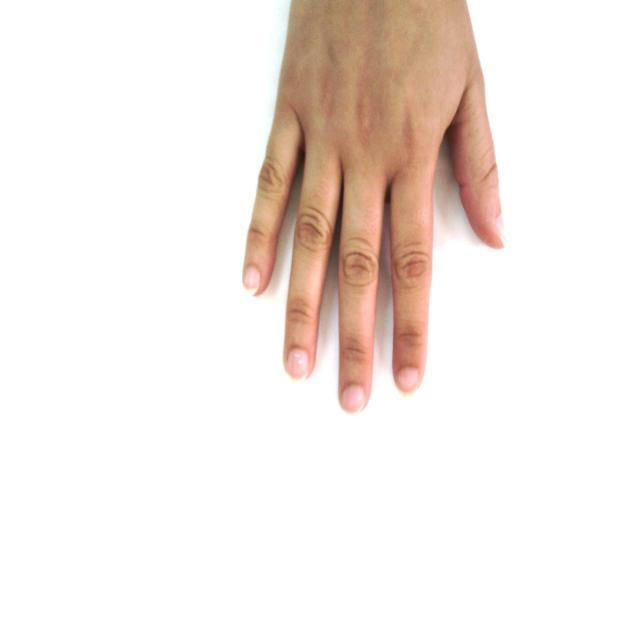Fingernail: (343, 386, 364, 411), (290, 350, 308, 379), (242, 266, 259, 295), (398, 368, 419, 391), (497, 216, 505, 245)
